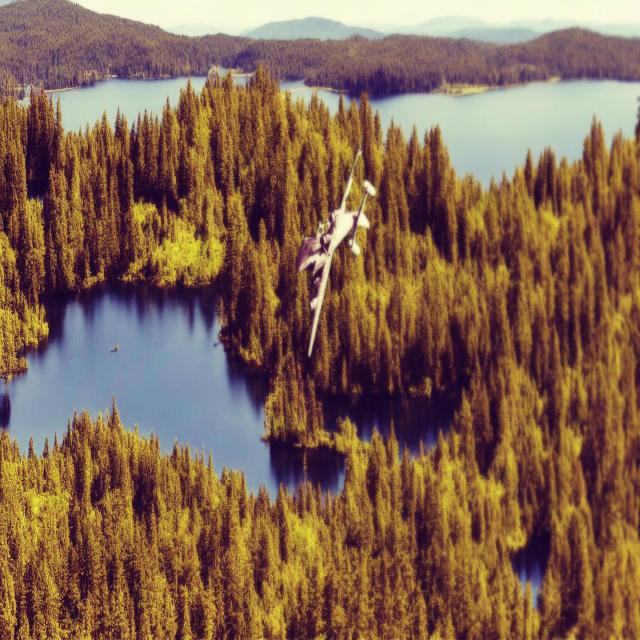airplane: (295, 134, 376, 358)
